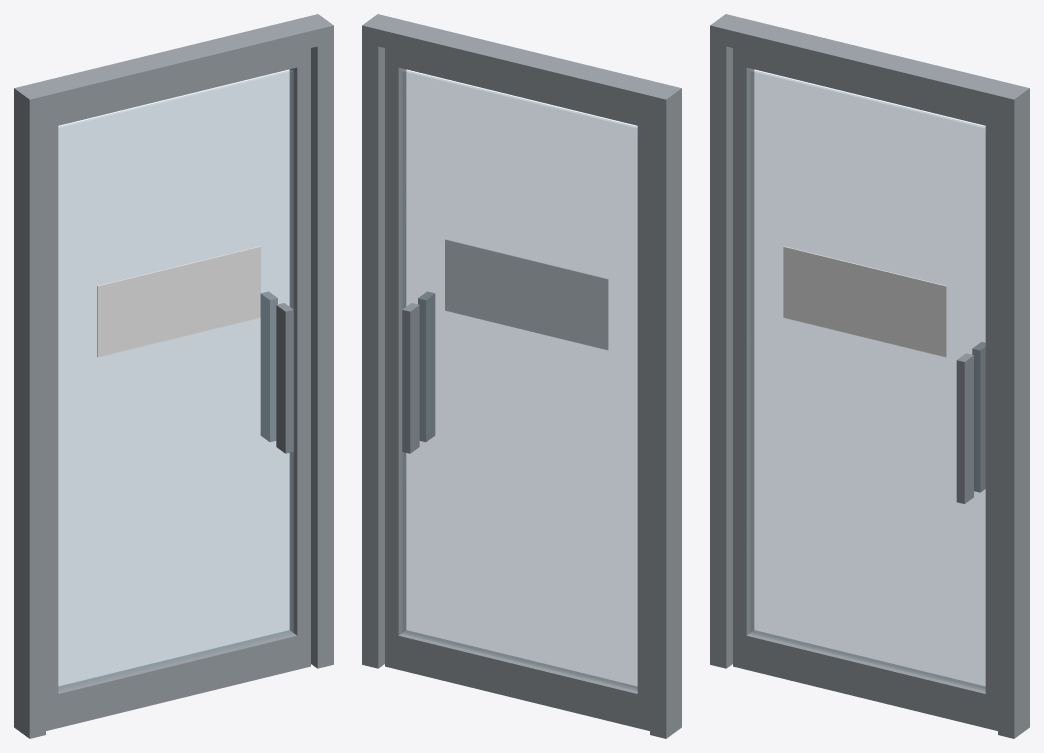
Rendered from door_glass.glb.
3 views of the same model, side by side, from view 1: azimuth 30°, elevation 25°; view 2: azimuth 150°, elevation 25°; view 3: azimuth 330°, elevation 25° (orthographic).
Parts seen in each view (by area): view 1: leaf, frame, decal; view 2: leaf, frame, decal; view 3: leaf, frame, decal.
Part boxes in pixels (left/top/right/bottom): leaf: left=46, top=48, right=310, bottom=730; frame: left=14, top=14, right=333, bottom=738; decal: left=97, top=246, right=260, bottom=357; leaf: left=385, top=48, right=649, bottom=730; frame: left=362, top=14, right=681, bottom=738; decal: left=445, top=239, right=608, bottom=350; leaf: left=733, top=48, right=997, bottom=730; frame: left=710, top=14, right=1029, bottom=738; decal: left=783, top=246, right=946, bottom=357.
Bounding box in the file's own units: 1.12 × 2.25 × 0.16.
